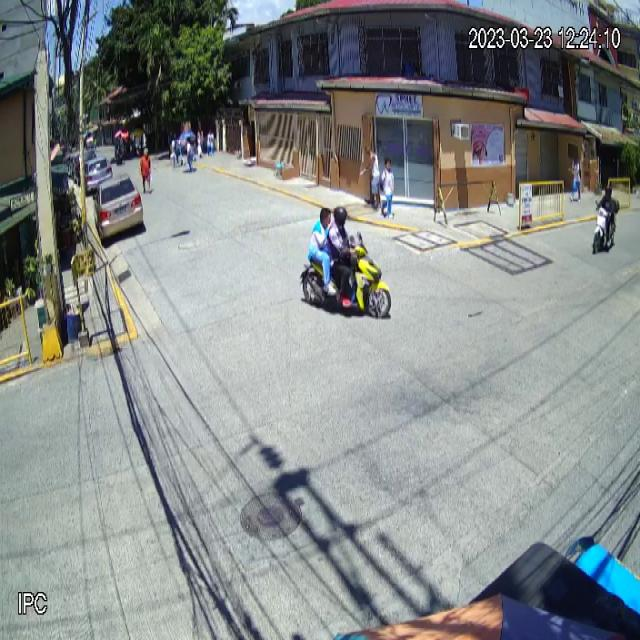Motorcycle: (302, 230, 391, 319)
